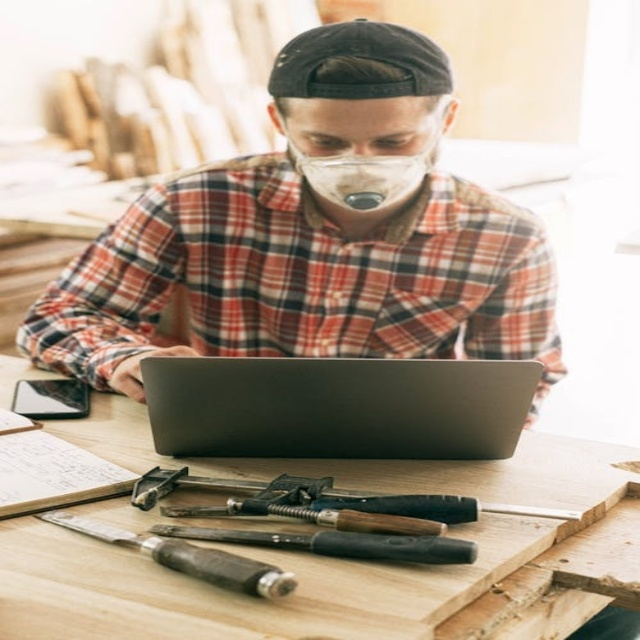Mascara: (284, 102, 446, 214)
Sin_gafas: (284, 99, 445, 160), (309, 136, 346, 148), (374, 137, 411, 149)
Sin_guantes: (107, 344, 203, 404)
